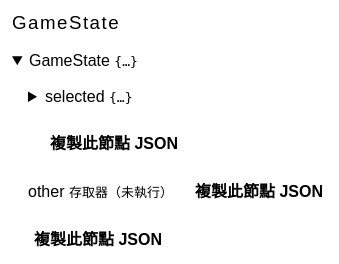
Test: lazy read-only StateViewer › copies only the explicitly selected subtree without reading unrelated accessors or mutating data
Click the button "複製此節點 JSON" below "selected".
click(114, 142)  # box [36,122,192,162]
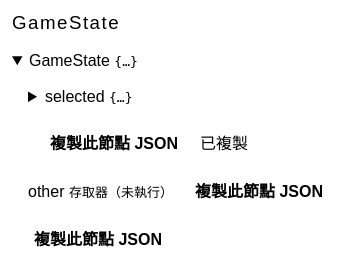
Now the message reads "已複製", box [200,135,248,152]
